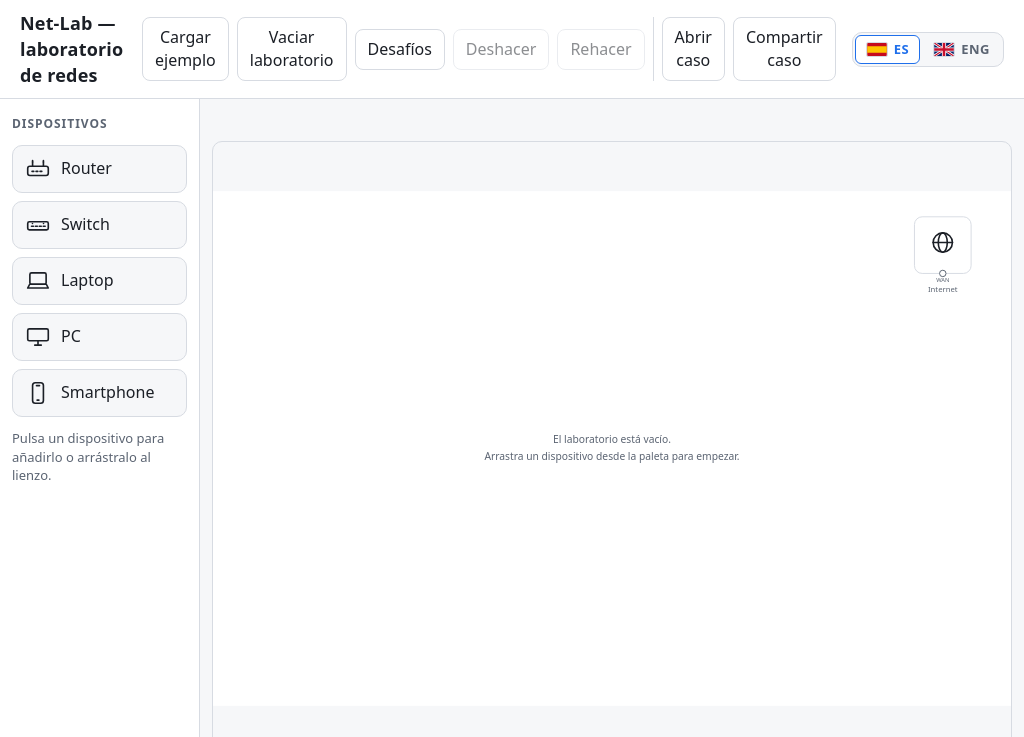
Test: the panel asks before it tells (S76, S77, S80) › shows nothing of the quiz for a device that works
Click the button "Router" at (100, 169), box [12,145,187,193]
(page scrolled)
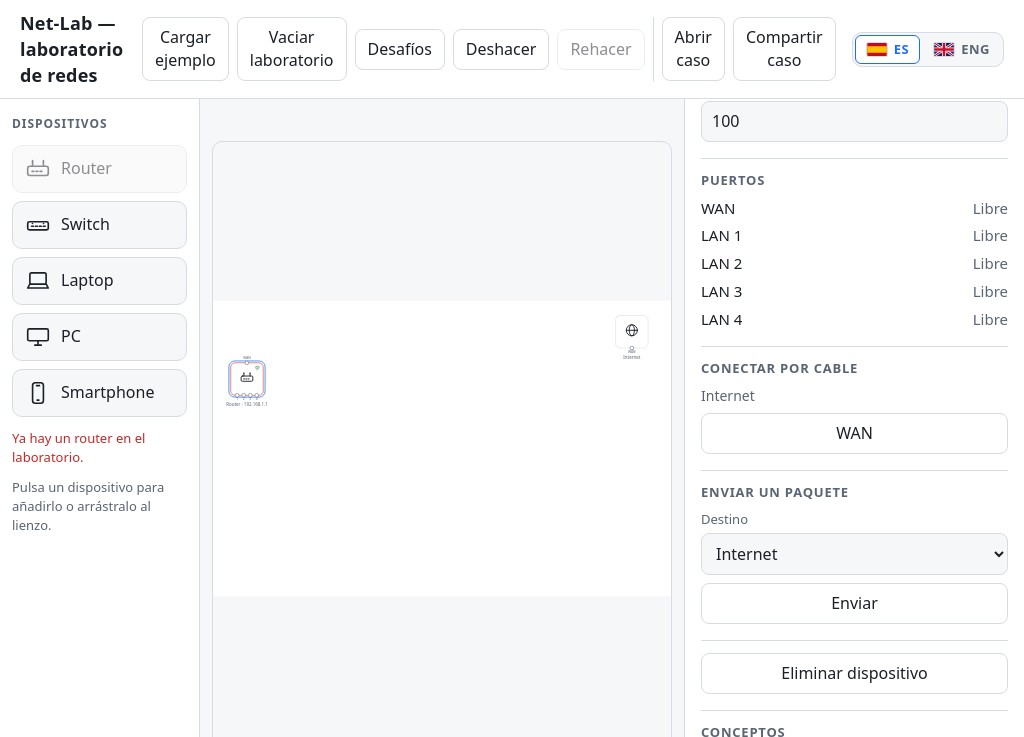
Click the button "WAN" at (854, 433), box [701,413,1008,454]
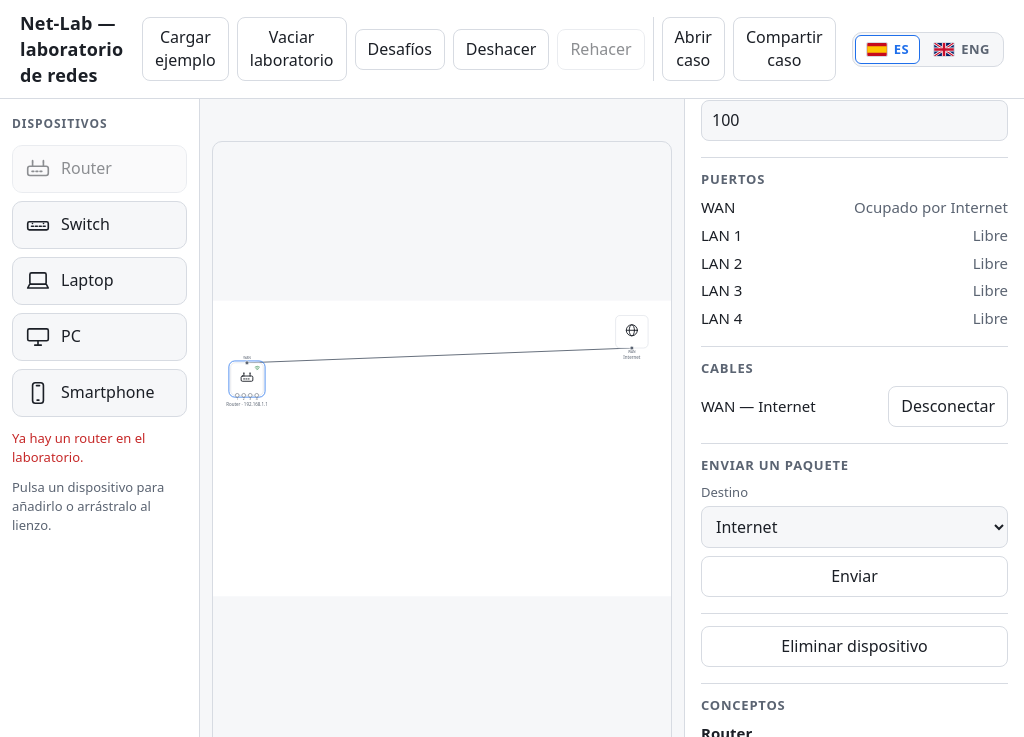
Click the button "Laptop" at (100, 281), box [12,257,187,305]
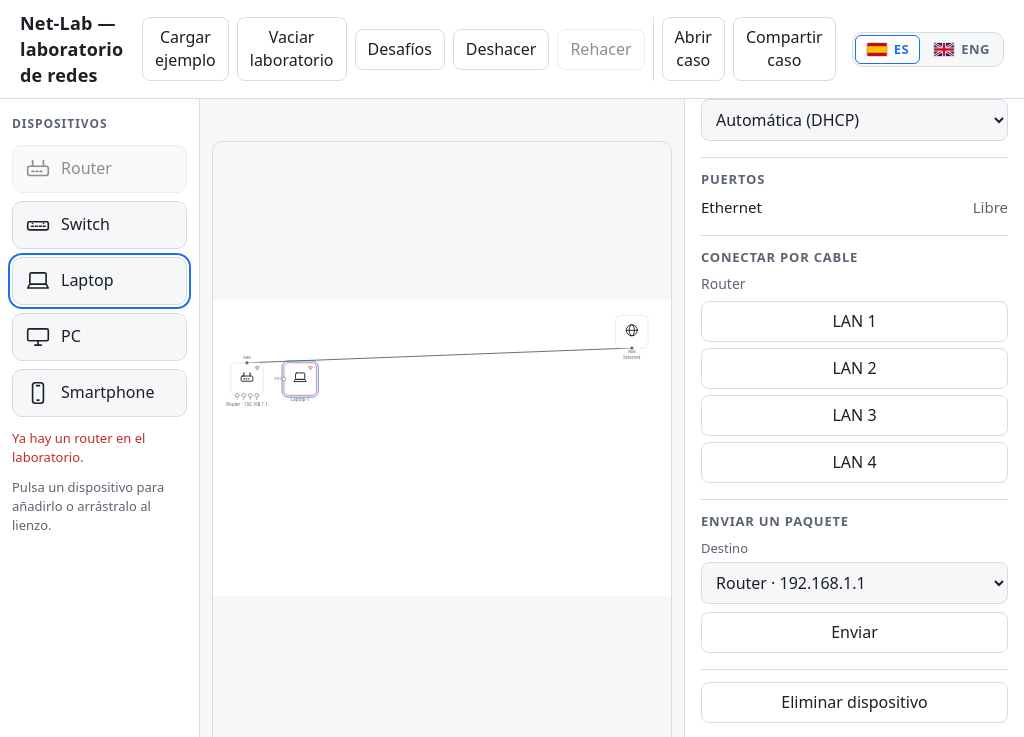
Click the button "LAN 1" at (854, 321), box [701,301,1008,342]
(page scrolled)
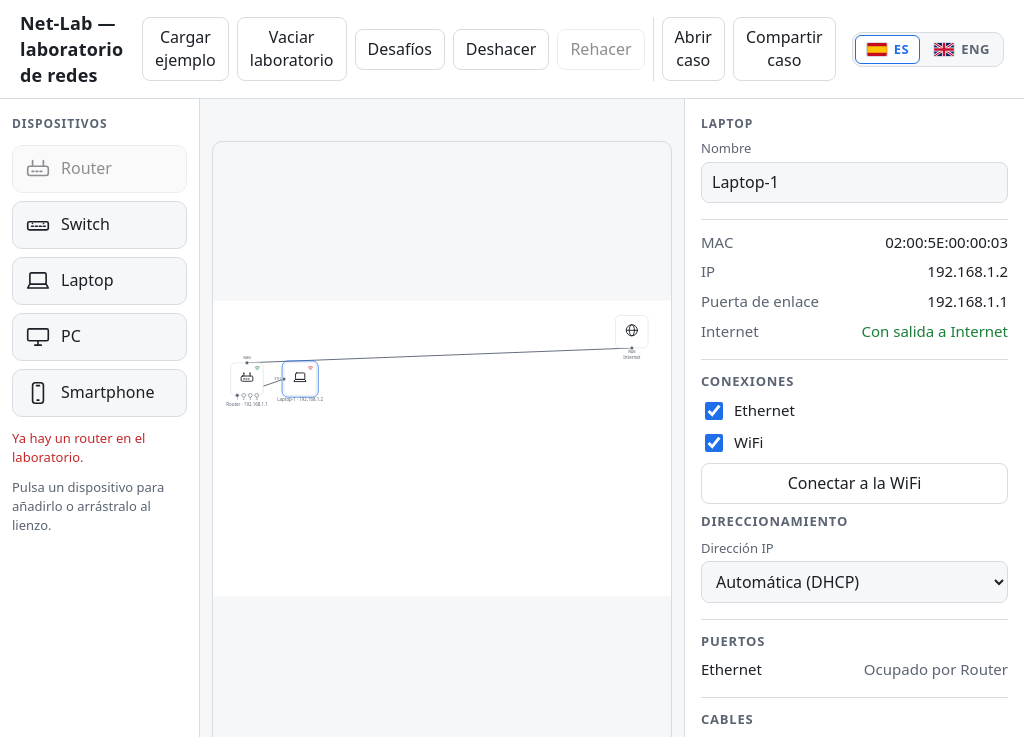
Expected: the text "Con salida a Internet" is shown, [862,321,1008,343]
